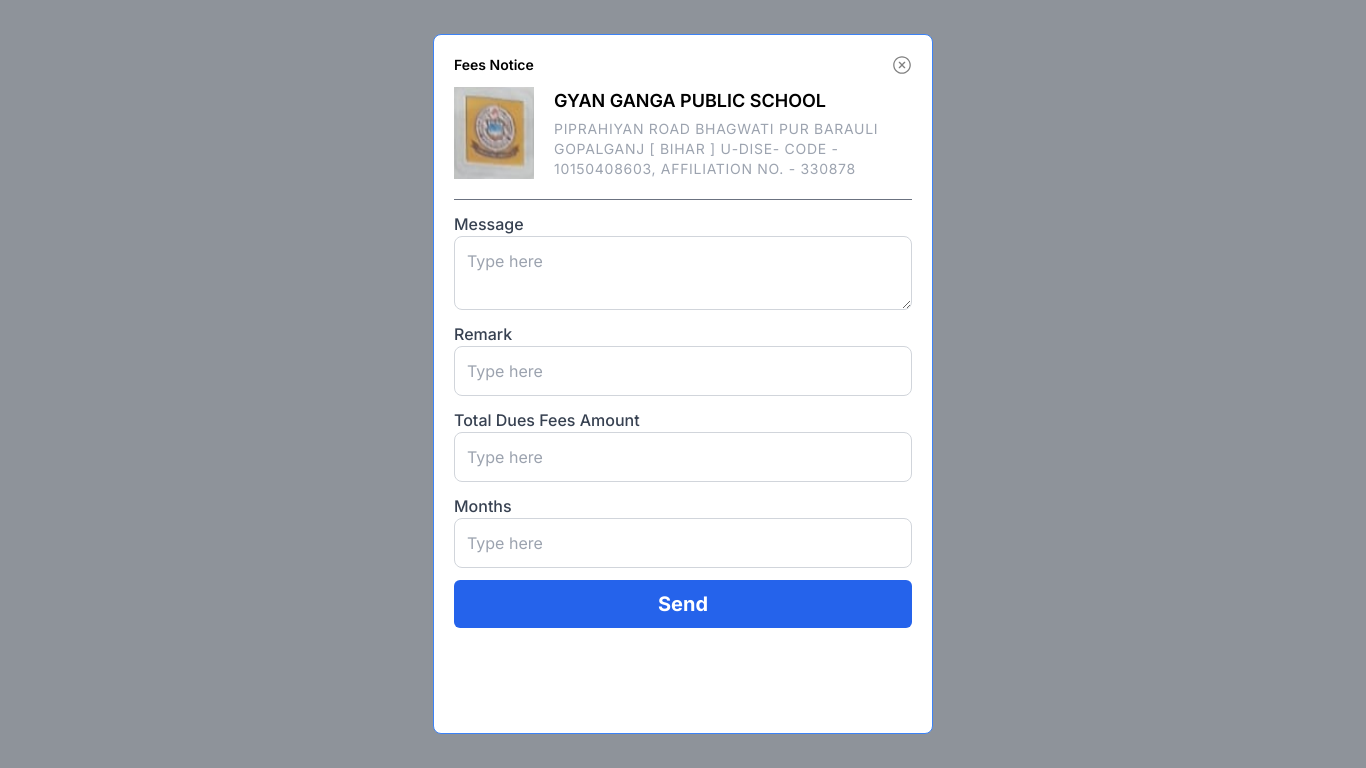
Test case: FeeNotice Component › handles form submission successfully
Type "Test Message" into the text box labelled "Message" at (683, 273), box [454,236,912,310]
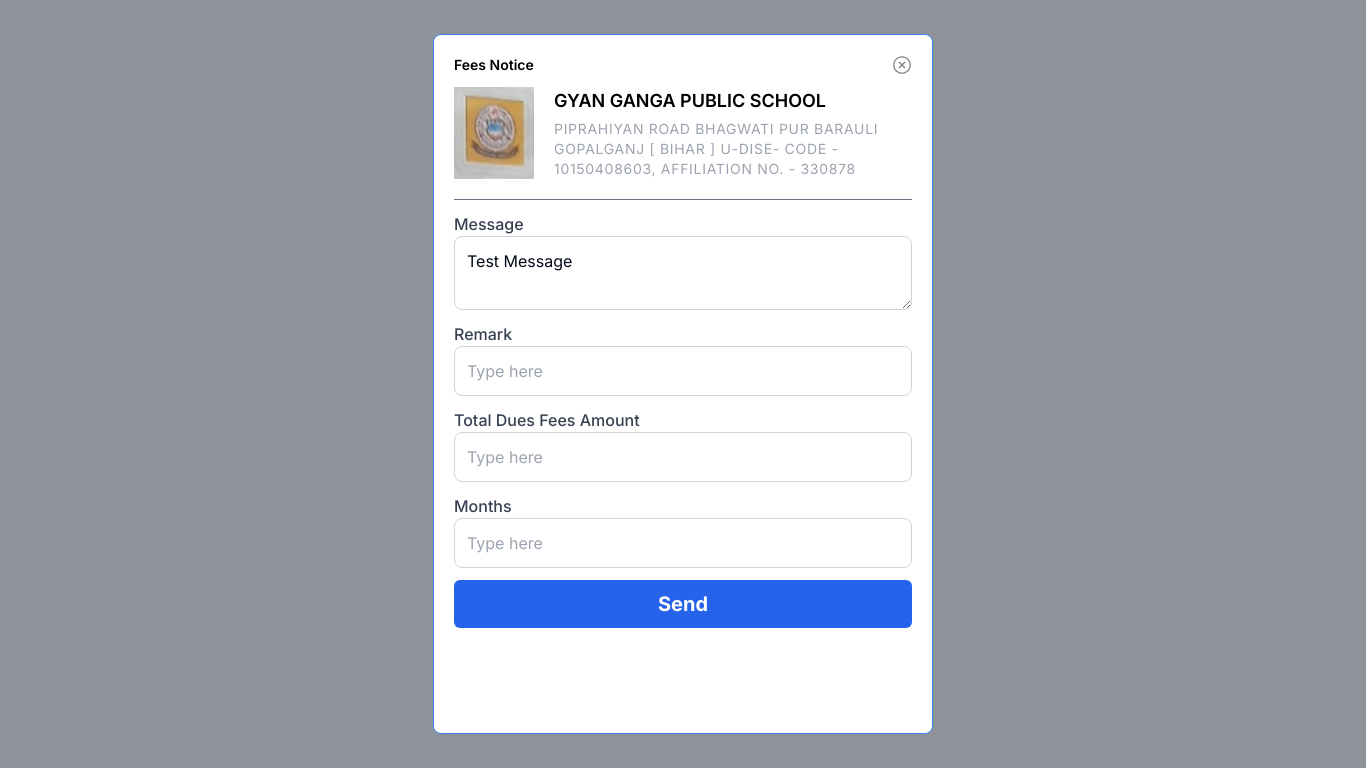
Type "Test Remark" into the field labelled "Remark" at (683, 371), box [454,346,912,396]
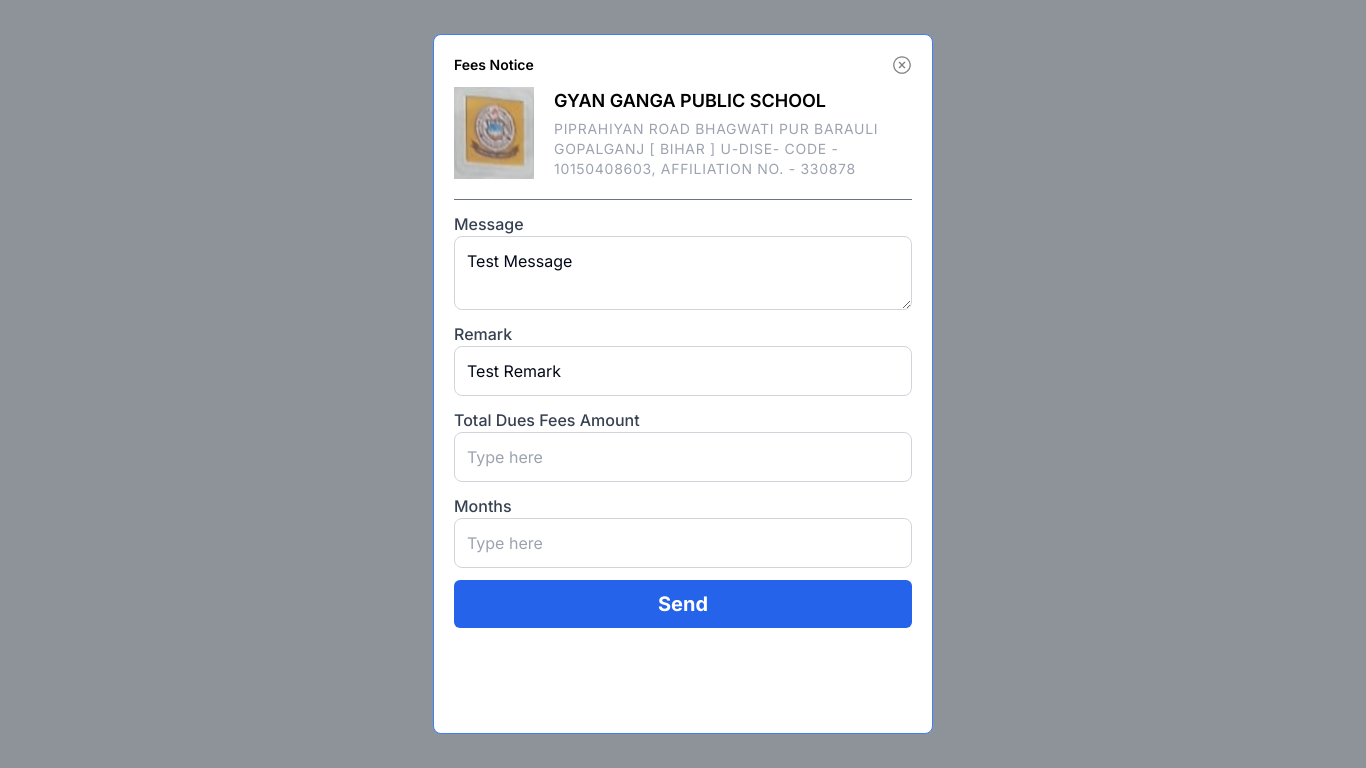
Type "1000" into the number field labelled "Total Dues Fees Amount" at (683, 457), box [454,432,912,482]
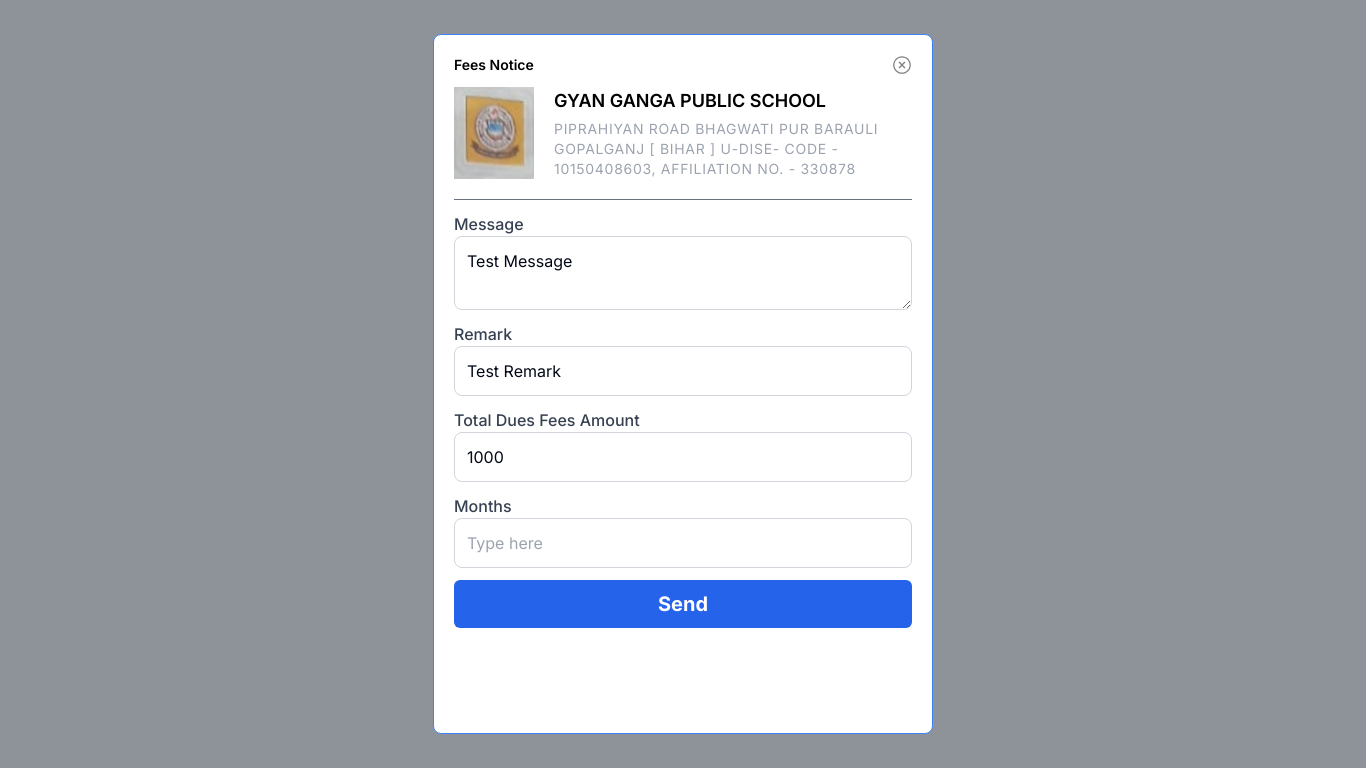
Type "August" into the field labelled "Months" at (683, 543), box [454,518,912,568]
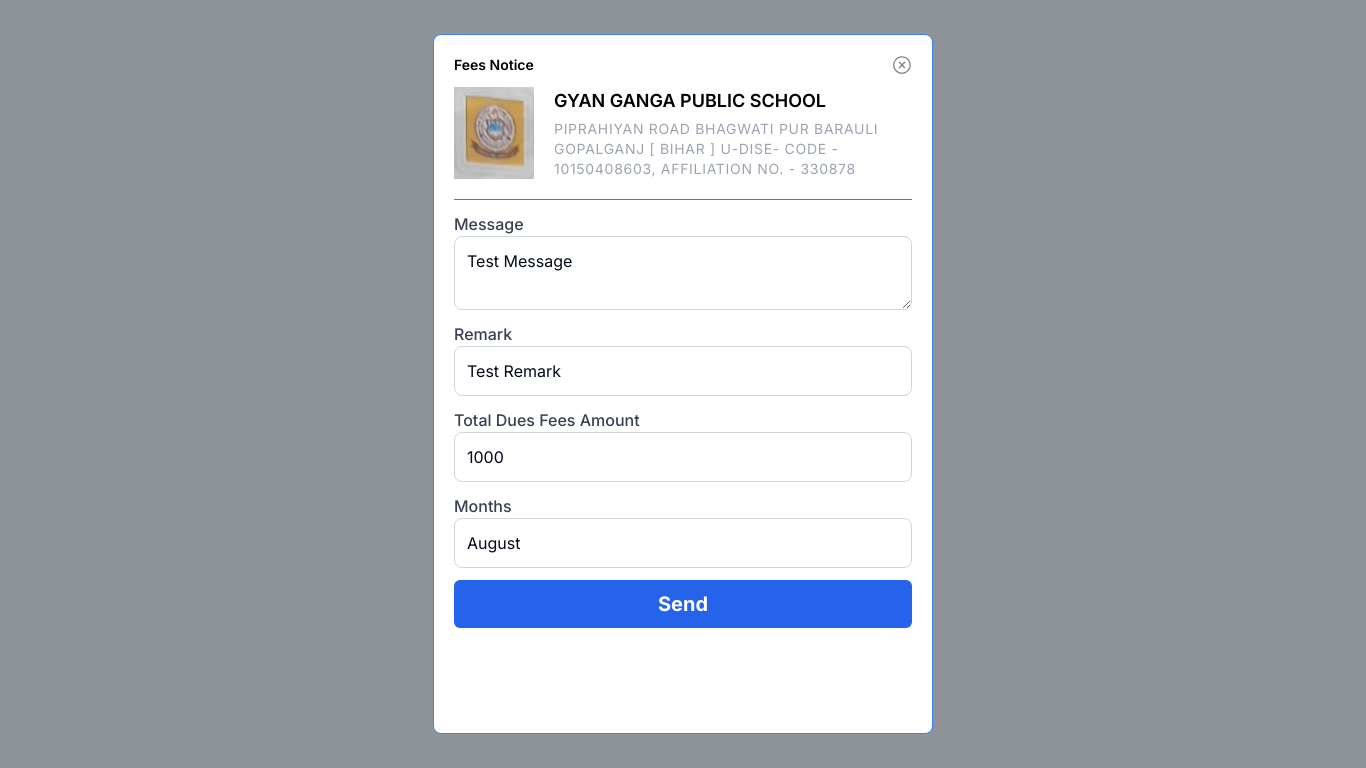
Click the button "Send" at (683, 604), box [454,580,912,628]
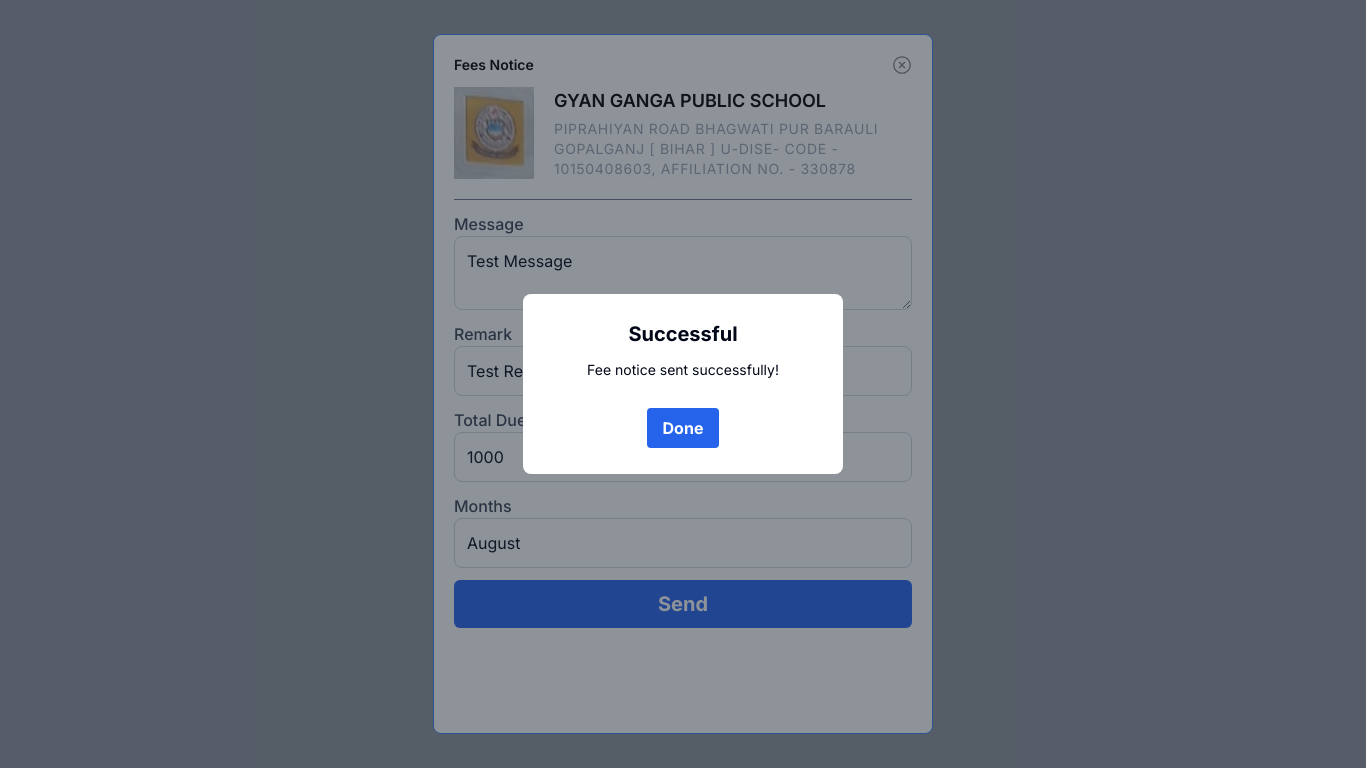
Check: the heading "Fee notice sent successfully!" is shown, box [587,360,779,380]
